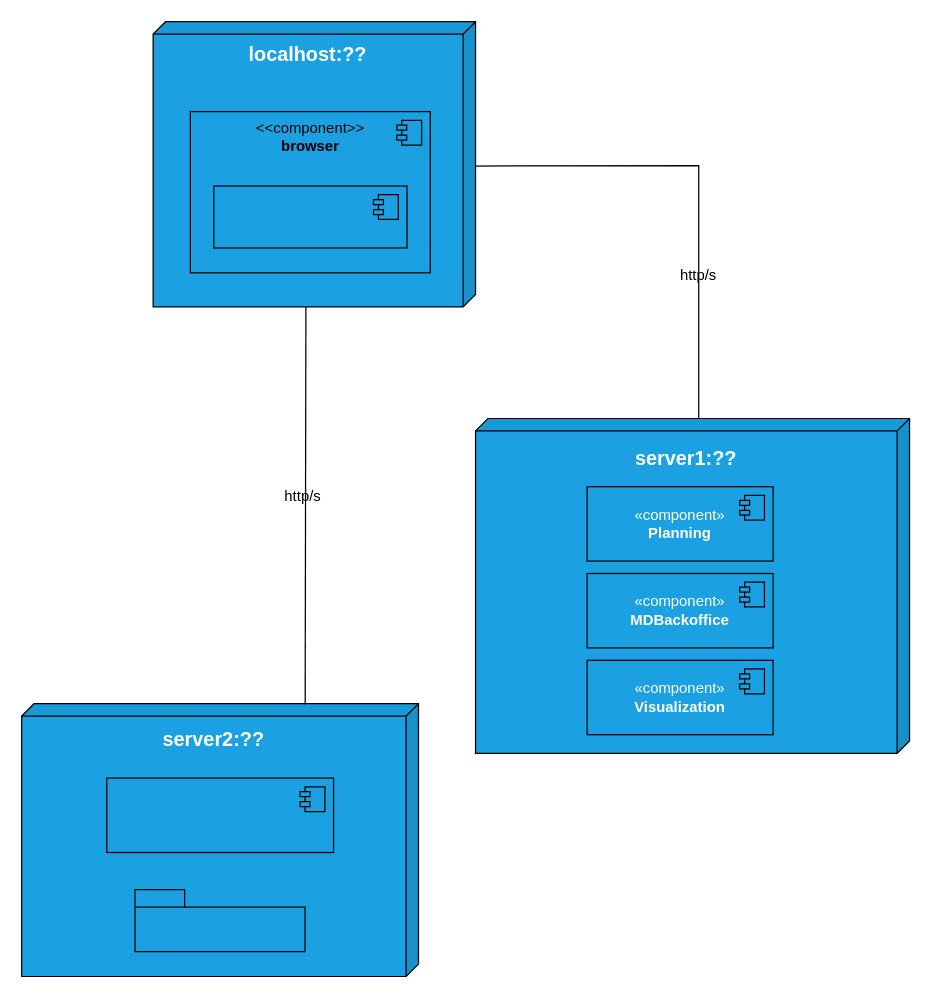
The diagram is 931 pixels wide and 998 high, and some of its shapes have lost their labels. The centre of each missing label's shape, as x and y in pixels:
Visualization: pixel 219 920
«component» HttpServer: pixel 220 814
«component» UI: pixel 310 216
